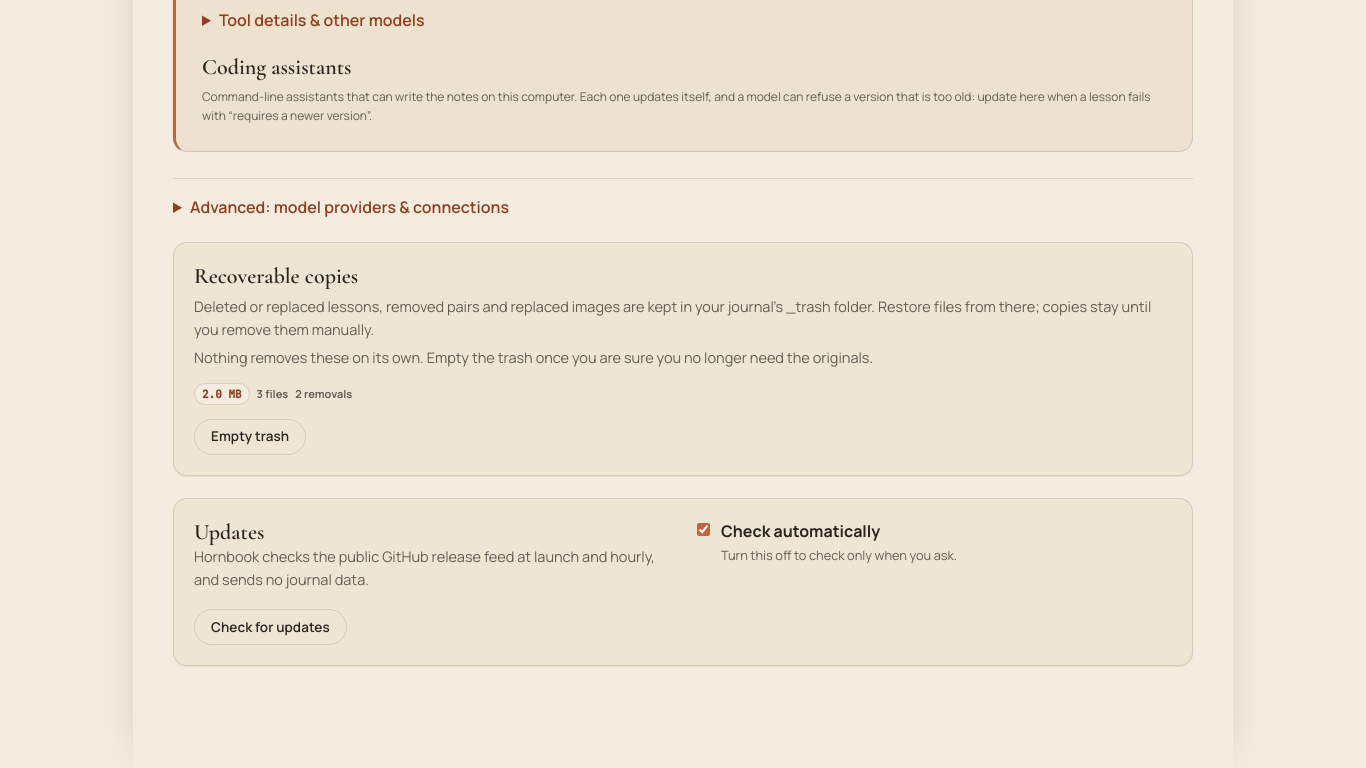
Test: AppSettingsComponent › reports the retained copies and empties them after a confirmation
This screenshot has width=1366, height=768.
Emptying is destructive and asks before it runs.
Click the button "Empty trash".
click(250, 437)  # box [194,419,306,455]
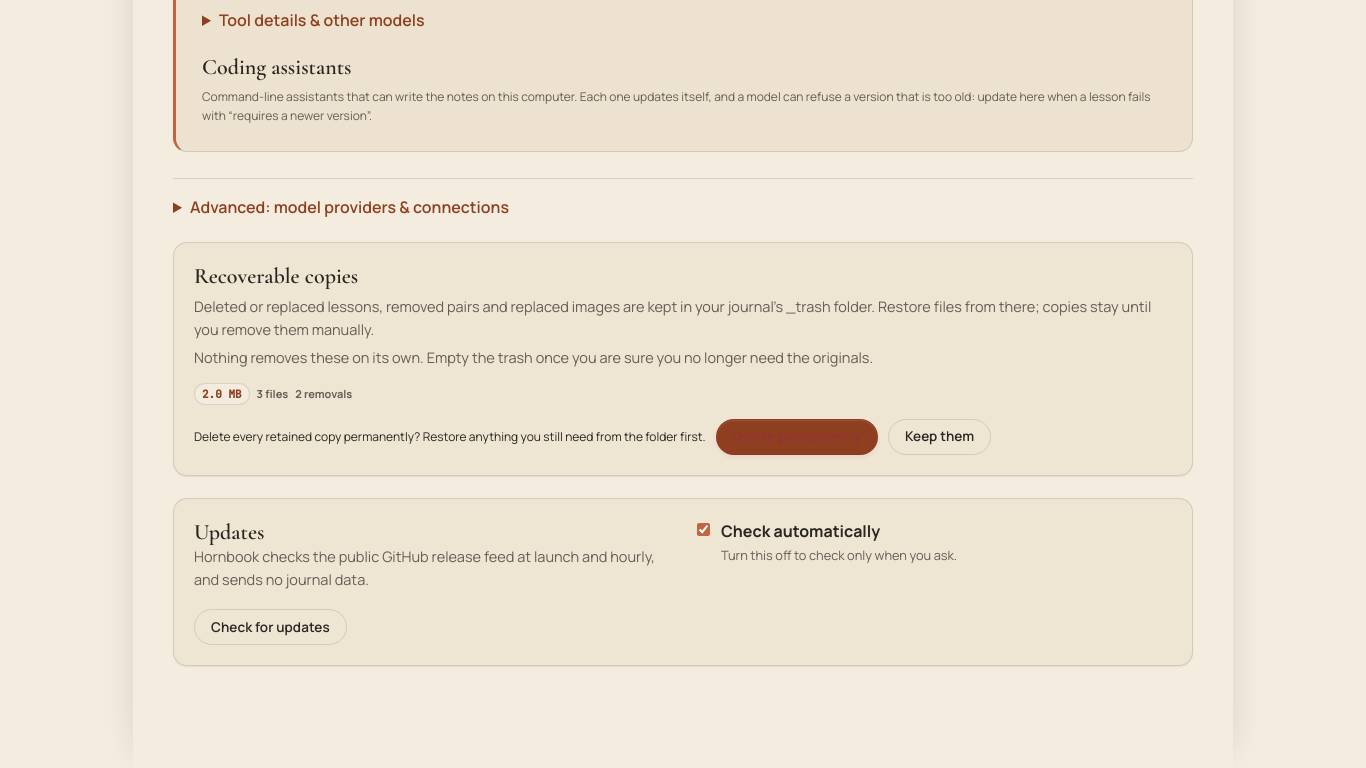
Now the element with class "il-trash-action" shows "permanently?", box [194,428,706,445]
Click the button "Delete permanently".
click(797, 437)  # box [716,419,878,455]
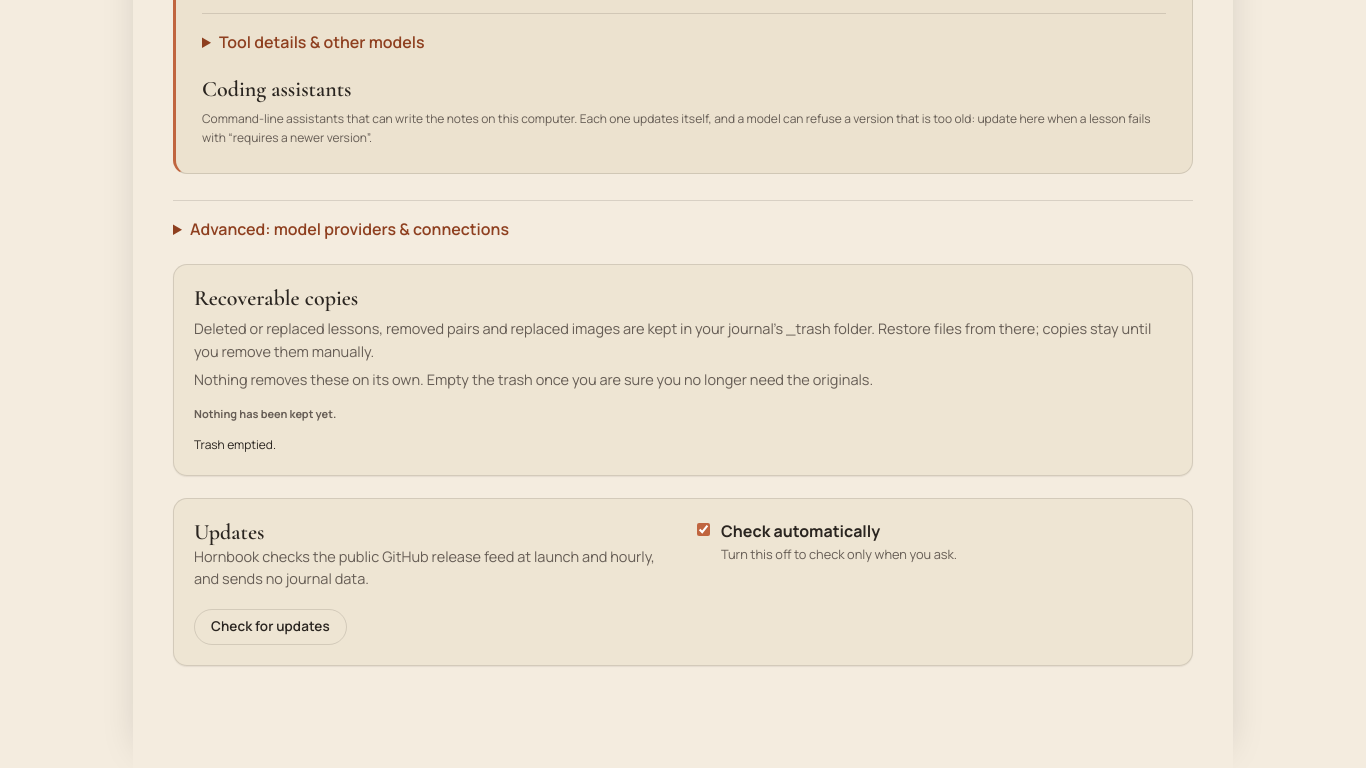
Now the text "Nothing has been kept yet." is shown, box [194,405,336,422]
Now the text "Trash emptied." is shown, box [194,436,276,454]
